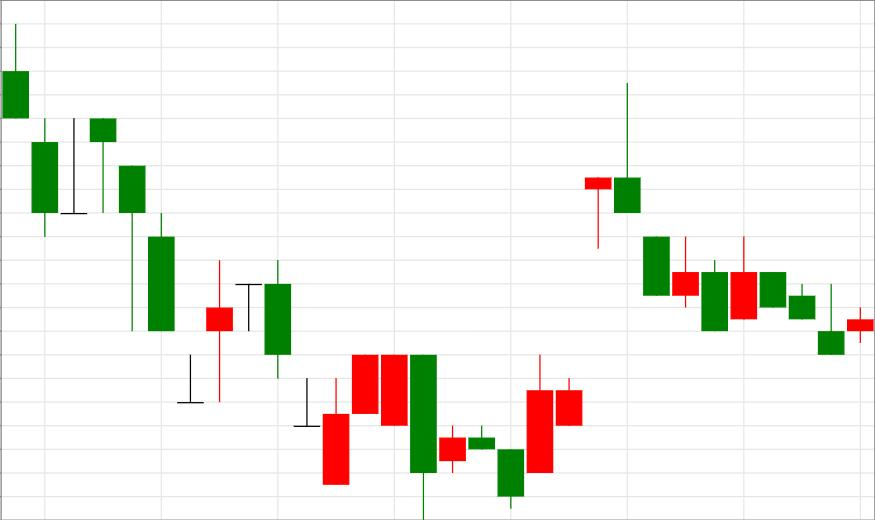shooting_star_fall: (498, 83, 640, 508)
